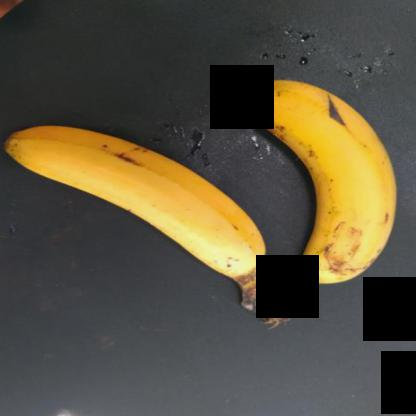freshripe: (0, 112, 273, 274)
ripe: (231, 61, 414, 289)
